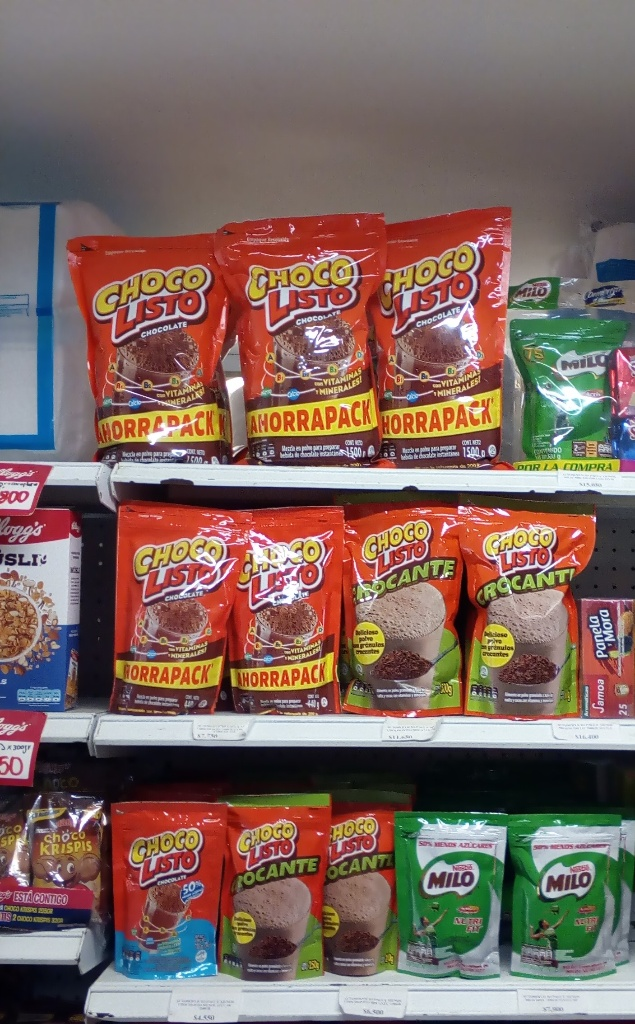COL0170102DYP25000: (217, 794, 330, 982)
COL0170102DYP50000: (340, 502, 463, 717)
COL0170103DYP1,500: (62, 225, 237, 468)
COL0170103DYP44000: (113, 500, 252, 713)
COL0170104DYP20000: (111, 799, 224, 983)
COL0170203DYP50000: (505, 311, 625, 459)
COL0170205DYP20000: (393, 811, 509, 978)
